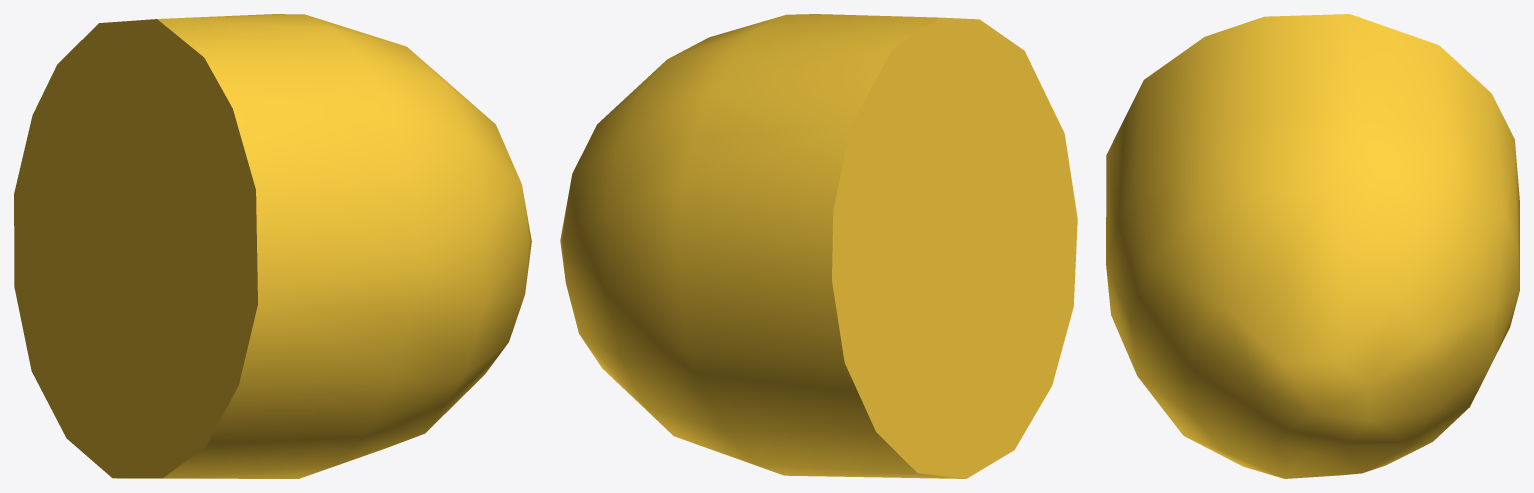
File: bala_ignitium.obj
3 views of the same model, side by side, from view 1: azimuth 30°, elevation 25°; view 2: azimuth 150°, elevation 25°; view 3: azimuth 270°, elevation 25° (orthographic). The views are drawn at different scales.
Bounding box in the file's own units: 0.0522 × 0.0536 × 0.0507.
